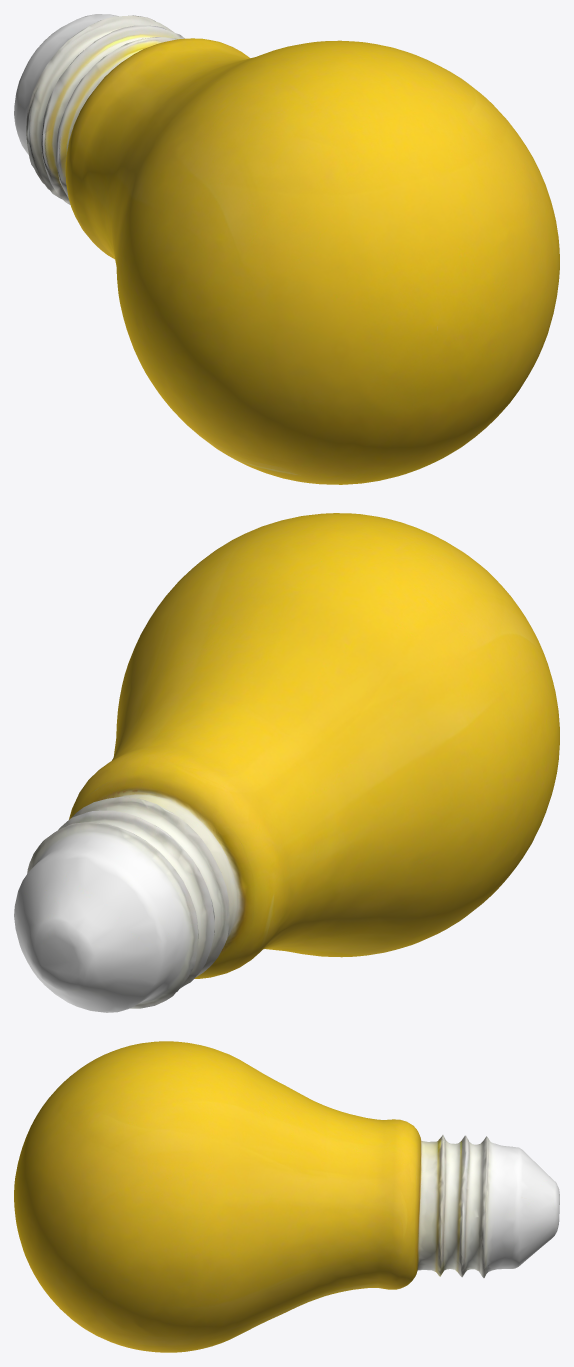
The model's file is wolframio.fbx.
3 renders of one model, top to bottom at view 1: azimuth 30°, elevation 25°; view 2: azimuth 150°, elevation 25°; view 3: azimuth 270°, elevation 25°, orthographic. The views are drawn at different scales.
Visible parts, largest first — view 1: Mesh_0.016; view 2: Mesh_0.016; view 3: Mesh_0.016.
Boxes of the visible parts, x1,y1,x2,y2 form: Mesh_0.016: (14,14,559,484); Mesh_0.016: (14,513,559,1012); Mesh_0.016: (14,1041,559,1352).
Bounding box in the file's own units: 0.2789 × 0.2808 × 0.492.
1 material, 1 textured.
